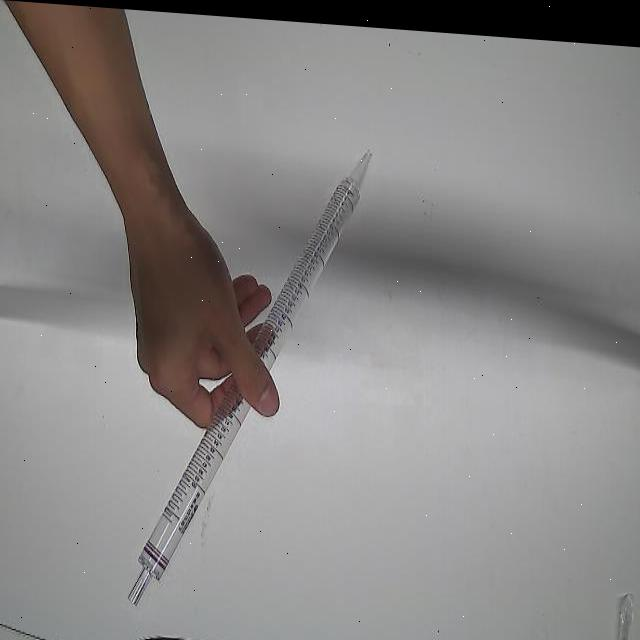Serelogical Pipet 50 mL: (125, 117, 384, 622)
